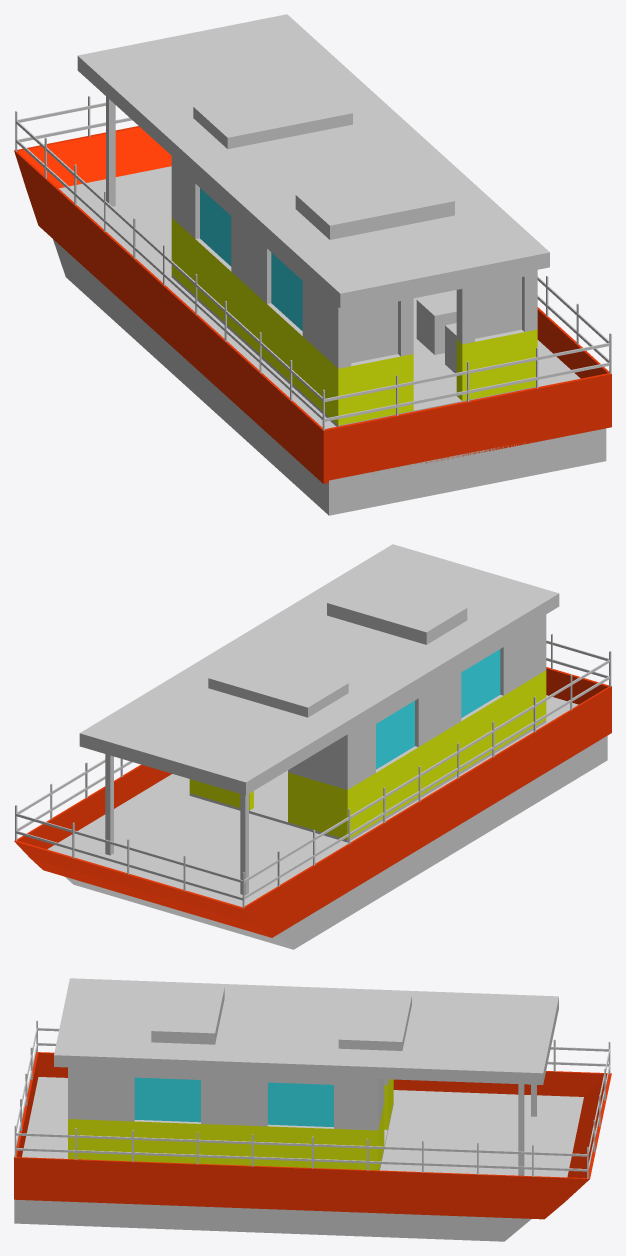
Rendered from af29cd56-d0f4-43b3-9378-72c1fdbdf624.glb.
The picture shows the model from 3 angles, top to bottom: view 1: azimuth 30°, elevation 25°; view 2: azimuth 150°, elevation 25°; view 3: azimuth 270°, elevation 25°; orthographic projection. The views are drawn at different scales.
Parts seen in each view (by area): view 1: Box20267, Box20263, Box20273, Box20262, Box20246, Box20254, Object006, Object004, Box20243, Box20230, Box20232, Box20233 (+2 smaller); view 2: Box20263, Box20267, Box20273, Box20262, Box20246, Box20254, Object004, Box20249, Box20232, Box20233, Box20265, Box20266; view 3: Box20263, Box20267, Box20273, Box20262, Object005, Box20246, Box20254, Box20251, Box20235, Box20265, Box20243, Box20249.
Part boxes in pixels (x1,y1,x2,y2): Box20267: [77, 14, 549, 308]; Box20263: [14, 126, 611, 483]; Box20273: [171, 156, 537, 426]; Box20262: [53, 239, 606, 515]; Box20246: [295, 170, 454, 239]; Box20254: [193, 82, 352, 148]; Object006: [351, 277, 521, 362]; Object004: [200, 188, 302, 330]; Box20243: [325, 342, 609, 421]; Box20230: [416, 292, 456, 354]; Box20232: [16, 121, 322, 400]; Box20233: [16, 140, 322, 419]; Box20263: [14, 667, 611, 937]; Box20267: [79, 544, 559, 795]; Box20273: [189, 614, 546, 842]; Box20262: [65, 736, 607, 949]; Box20246: [327, 578, 467, 644]; Box20254: [208, 653, 348, 717]; Object004: [376, 649, 500, 769]; Box20249: [16, 813, 242, 900]; Box20232: [244, 659, 609, 882]; Box20233: [244, 676, 609, 898]; Box20265: [105, 754, 113, 855]; Box20266: [240, 794, 248, 895]; Box20263: [14, 1052, 611, 1219]; Box20267: [54, 978, 558, 1084]; Box20273: [68, 1067, 393, 1170]; Box20262: [14, 1199, 531, 1241]; Object005: [134, 1077, 333, 1127]; Box20246: [151, 985, 224, 1044]; Box20254: [338, 993, 411, 1050]; Box20251: [15, 1133, 586, 1156]; Box20235: [15, 1148, 586, 1171]; Box20265: [518, 1084, 524, 1175]; Box20243: [16, 1028, 37, 1147]; Box20249: [588, 1049, 610, 1170].
Bounding box in the file's own units: 1283 × 789 × 2552.
